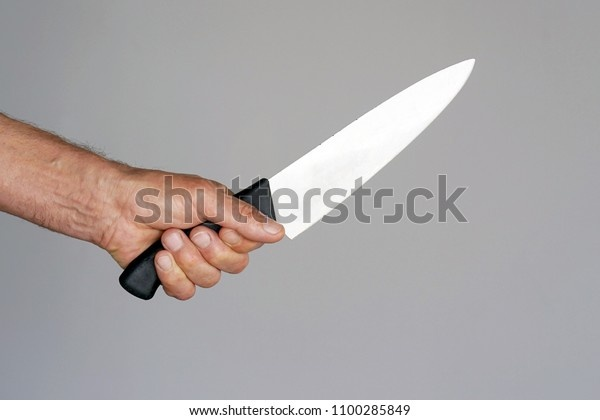knife: (118, 57, 476, 302)
